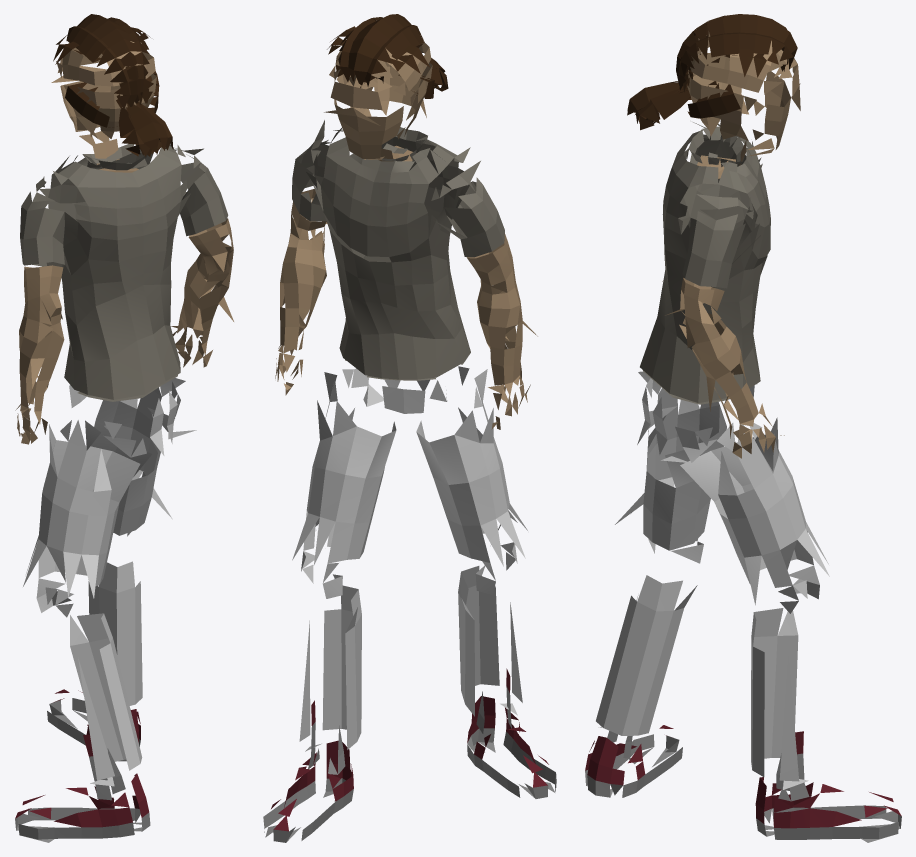
File: person_9_idle.fbx
3 renders of one model, left to right at view 1: azimuth 30°, elevation 25°; view 2: azimuth 150°, elevation 25°; view 3: azimuth 270°, elevation 25°, orthographic. The views are drawn at different scales.
Parts seen in each view (by area): view 1: Casual2_Feet; view 2: Casual2_Feet; view 3: Casual2_Feet.
Part boxes in pixels (x1,y1,x2,y2): Casual2_Feet: (15,14,233,842); Casual2_Feet: (263,14,556,842); Casual2_Feet: (585,14,901,842).
Bounding box in the file's own units: 0.3332 × 0.9932 × 0.3559.
